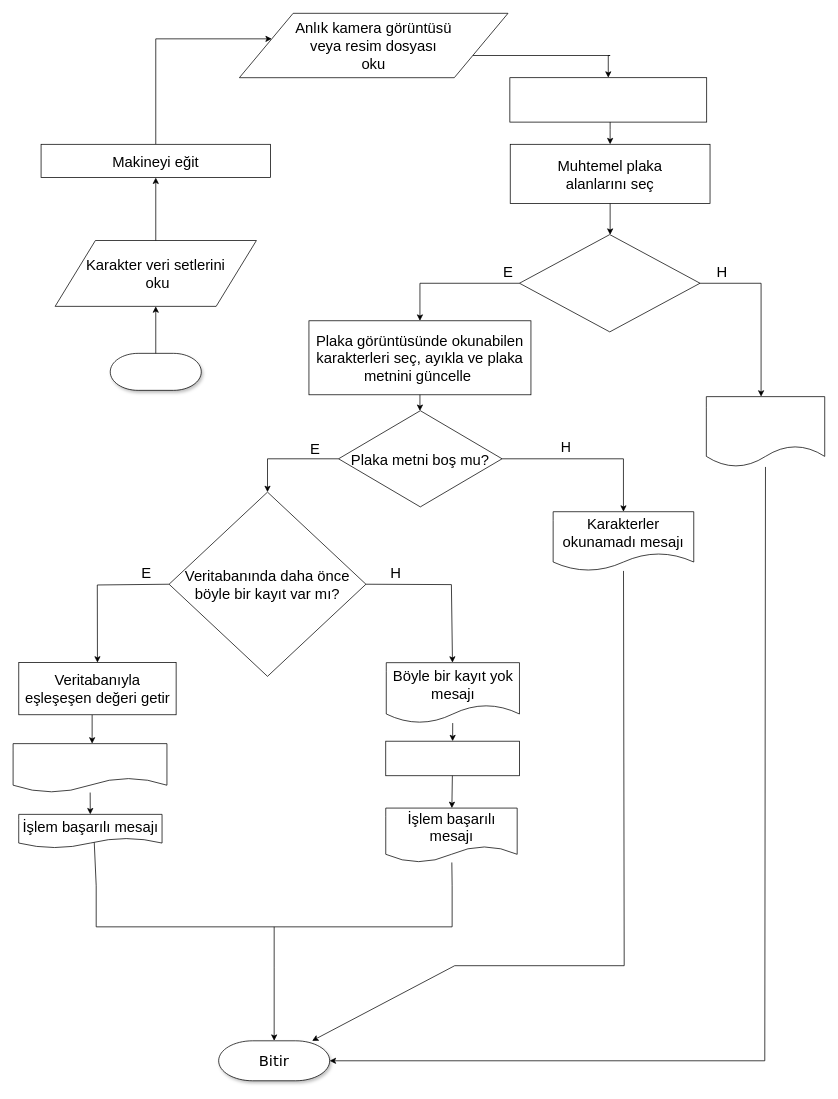
The diagram is 838 pixels wide and 1099 high, and some of its shapes have lost their labels. The centre of each missing label's shape, as x and y in pixels:
Başla: [156,373]
Eşleşen plaka değeri: [89,768]
Görüntüyü filtreden geçir: [608,99]
Plaka okunamadı mesajı: [765,431]
Plaka var mı?: [609,283]
Yeni plaka kaydı ekle: [452,758]
